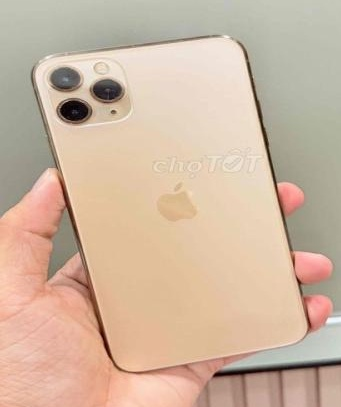scratch: (99, 84, 134, 103), (62, 110, 92, 126), (66, 62, 89, 82)
